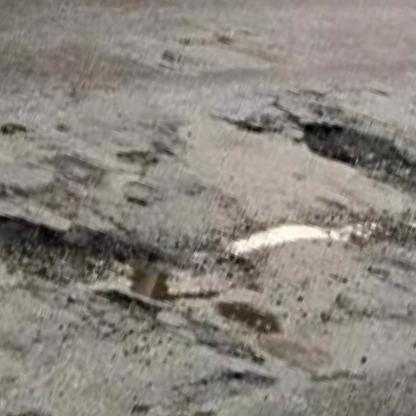pothole: (0, 154, 271, 361), (290, 105, 416, 209)
